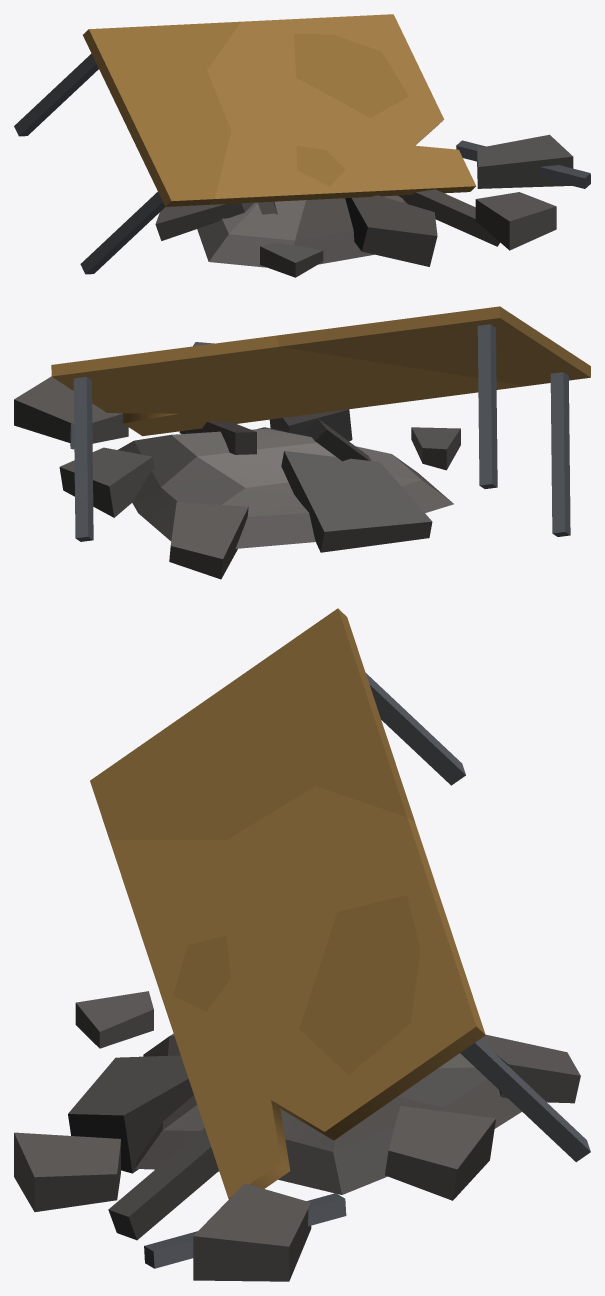
The model's file is AI_Prop_Table_02_Broken.fbx.
The picture shows the model from 3 angles, top to bottom: view 1: azimuth 30°, elevation 25°; view 2: azimuth 150°, elevation 25°; view 3: azimuth 270°, elevation 25°; orthographic projection. The views are drawn at different scales.
Visible parts, largest first — view 1: AI_Prop_Table_02_Broken; view 2: AI_Prop_Table_02_Broken; view 3: AI_Prop_Table_02_Broken.
Boxes of the visible parts, <box> form: AI_Prop_Table_02_Broken: <box>14,14,590,277</box>; AI_Prop_Table_02_Broken: <box>14,306,590,579</box>; AI_Prop_Table_02_Broken: <box>14,608,590,1281</box>.
Size of the model in its own units: 4.75 by 2.34 by 3.26.
